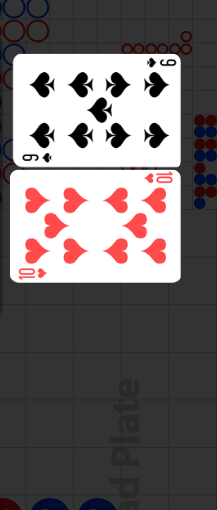10H: (18, 266, 50, 280)
9S: (144, 56, 177, 69)
